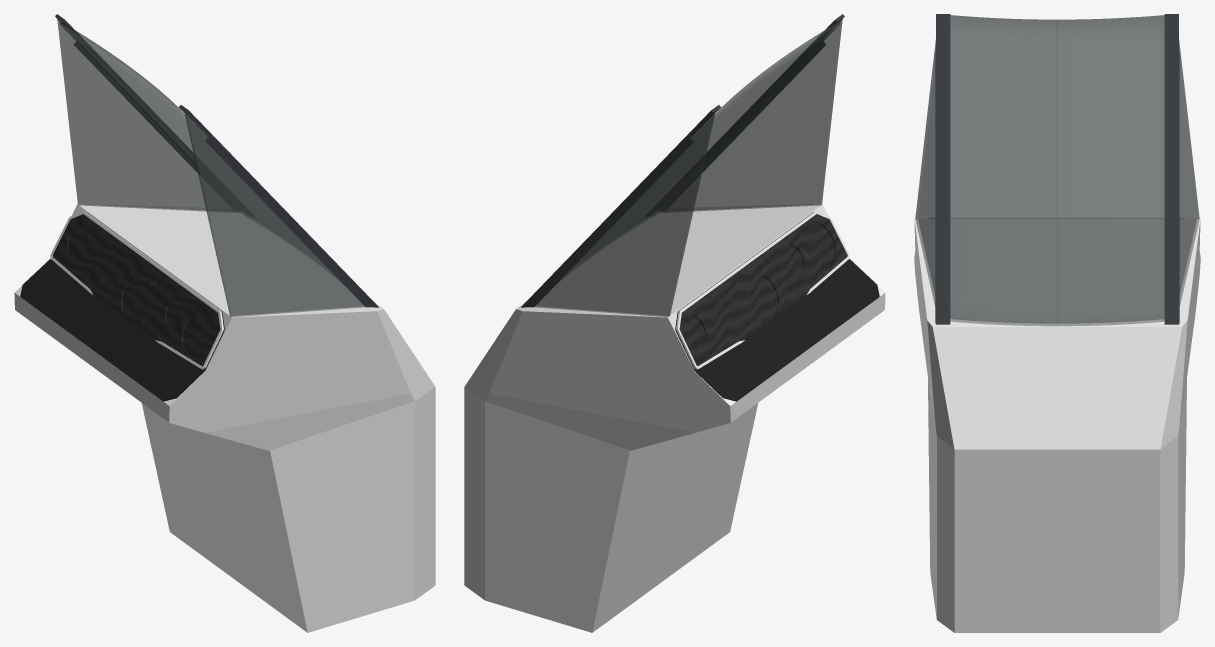
File: lux-console-twin-420s.glb
3 renders of one model, left to right at view 1: azimuth 30°, elevation 25°; view 2: azimuth 150°, elevation 25°; view 3: azimuth 270°, elevation 25°, orthographic. The views are drawn at different scales.
Visible parts, largest first — view 1: xs_lux_body, xs_lux_glass_sides_p, xs_lux_glass_sides_s, xs_lux_dash_wood, xs_lux_dash_lower, xs_lux_glass_front, xs_lux_posts, xs_lux_dash_trim, xs_lux_trims; view 2: xs_lux_body, xs_lux_glass_sides_s, xs_lux_glass_sides_p, xs_lux_dash_wood, xs_lux_dash_lower, xs_lux_glass_front, xs_lux_posts, xs_lux_dash_trim, xs_lux_trims; view 3: xs_lux_body, xs_lux_glass_front, xs_lux_trims, xs_lux_glass_sides_p, xs_lux_glass_sides_s, xs_lux_posts, xs_lux_dash_trim.
Boxes of the visible parts, bbox=[...] form: xs_lux_body: bbox=[14, 204, 435, 632]; xs_lux_glass_sides_p: bbox=[57, 19, 240, 212]; xs_lux_glass_sides_s: bbox=[184, 111, 364, 316]; xs_lux_dash_wood: bbox=[52, 214, 220, 366]; xs_lux_dash_lower: bbox=[20, 259, 205, 401]; xs_lux_glass_front: bbox=[59, 22, 328, 269]; xs_lux_posts: bbox=[74, 41, 378, 307]; xs_lux_dash_trim: bbox=[50, 211, 223, 369]; xs_lux_trims: bbox=[55, 14, 378, 307]; xs_lux_body: bbox=[464, 204, 885, 632]; xs_lux_glass_sides_s: bbox=[659, 19, 842, 212]; xs_lux_glass_sides_p: bbox=[535, 111, 715, 316]; xs_lux_dash_wood: bbox=[679, 214, 847, 366]; xs_lux_dash_lower: bbox=[694, 259, 879, 401]; xs_lux_glass_front: bbox=[571, 22, 840, 269]; xs_lux_posts: bbox=[521, 42, 825, 307]; xs_lux_dash_trim: bbox=[676, 211, 849, 369]; xs_lux_trims: bbox=[521, 14, 844, 307]; xs_lux_body: bbox=[914, 219, 1200, 632]; xs_lux_glass_front: bbox=[950, 15, 1164, 326]; xs_lux_trims: bbox=[936, 14, 1178, 324]; xs_lux_glass_sides_p: bbox=[1179, 39, 1199, 306]; xs_lux_glass_sides_s: bbox=[915, 39, 935, 304]; xs_lux_posts: bbox=[935, 51, 1179, 323]; xs_lux_dash_trim: bbox=[928, 217, 1186, 218].
Size of the model in its own units: 0.5908 by 1.07 by 0.551.
Materials: 6 (1 with a texture image).
